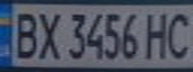3: (63, 8, 87, 61)
4: (84, 9, 106, 60)
5: (103, 9, 124, 61)
6: (118, 9, 145, 61)
B: (6, 8, 42, 60)
C: (163, 8, 193, 60)
H: (142, 8, 175, 61)
X: (33, 7, 63, 61)
